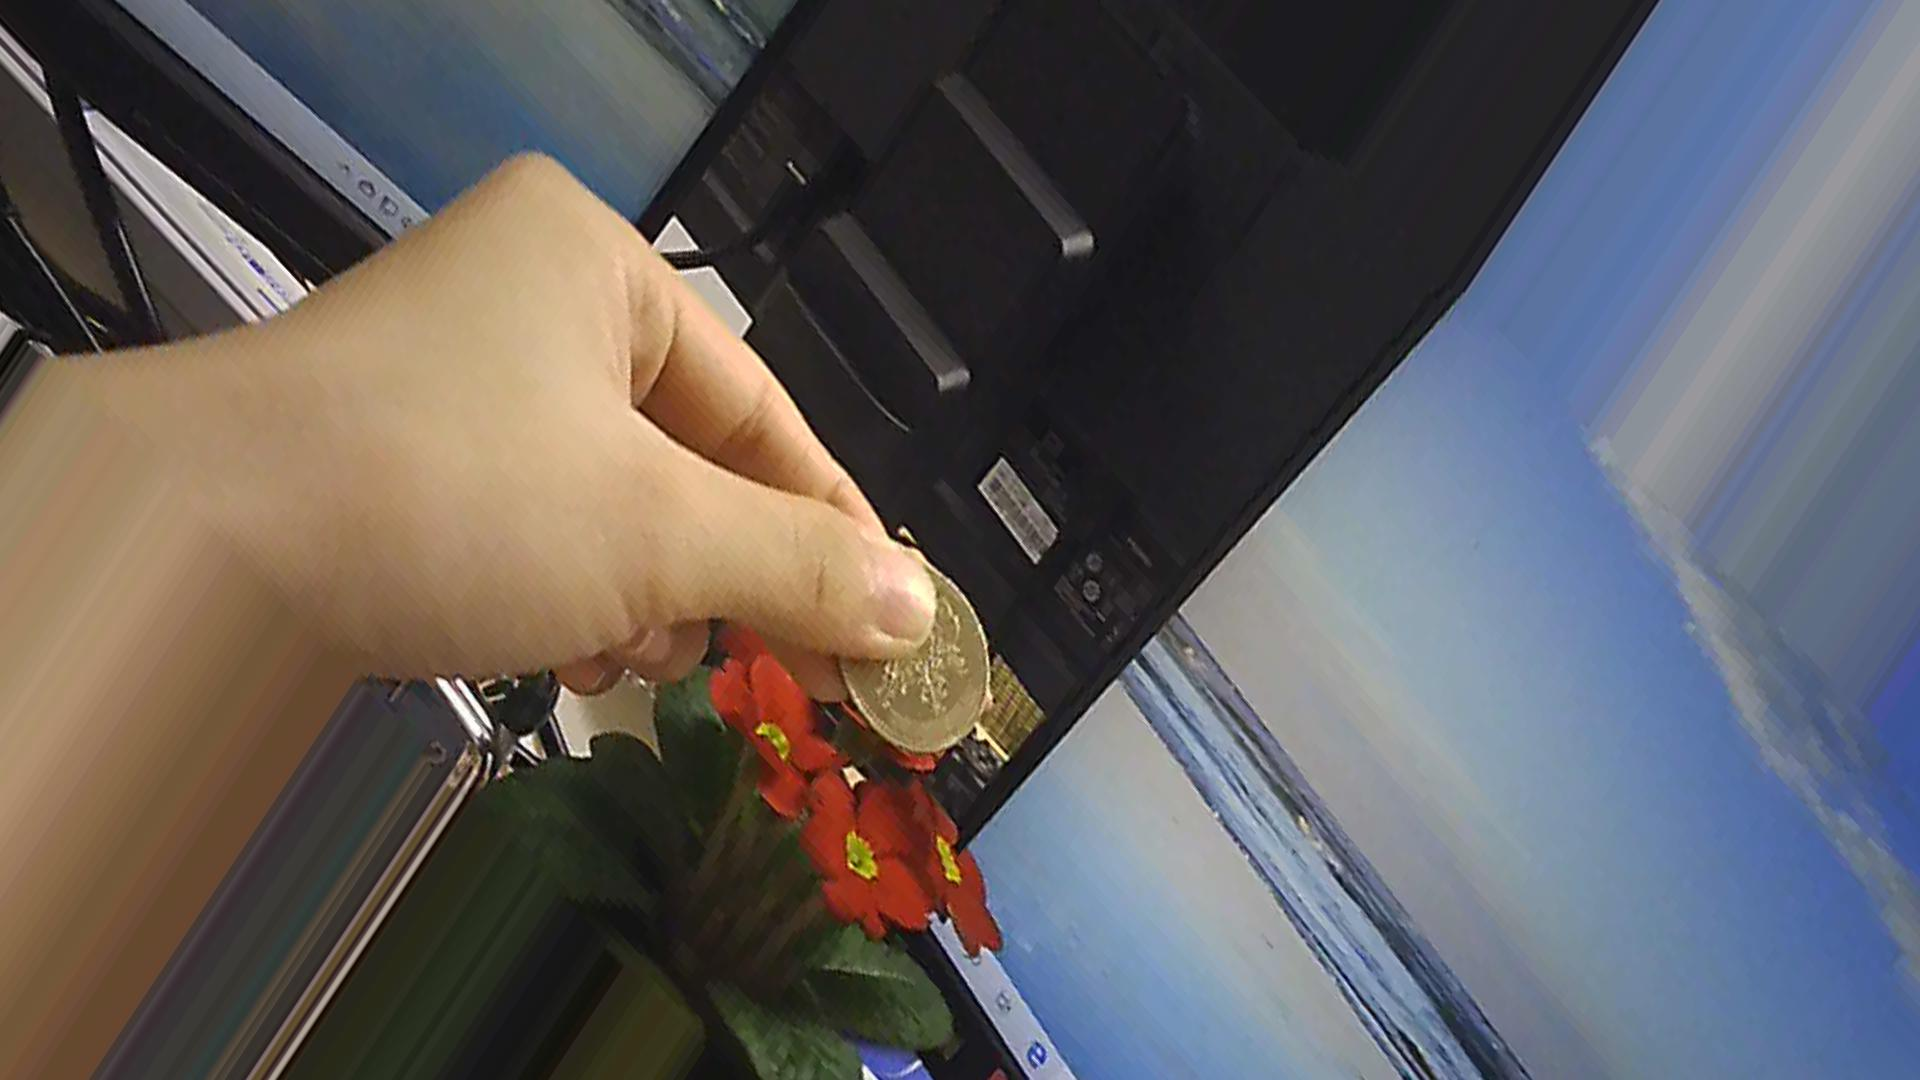500 Yen: (844, 547, 1015, 757)
